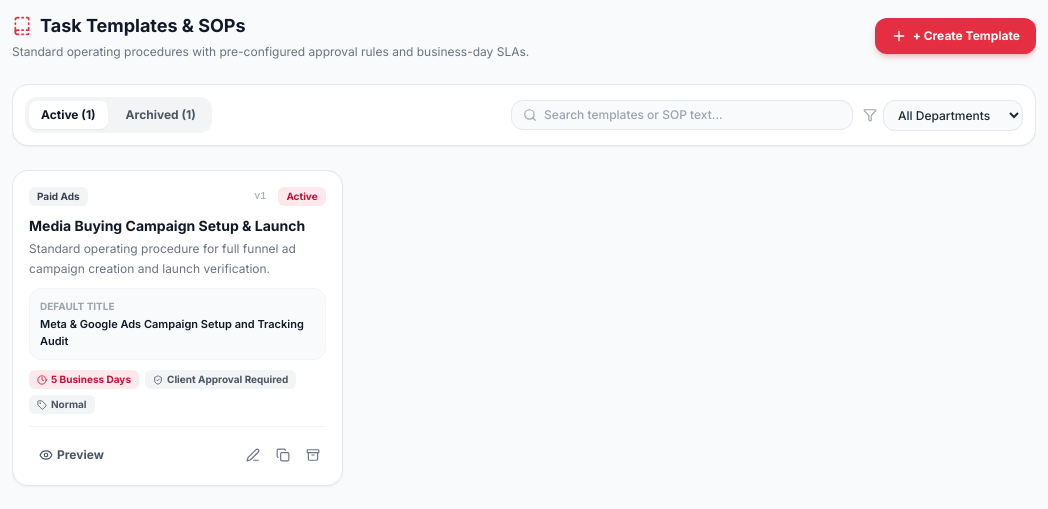
Test: Phase 3C: Task Templates System Comprehensive Suite › 5. Task Templates Library Governance & RBAC › 5.5 Owner can toggle to Archived tab and view archived templates with archive reasons
This screenshot has width=1048, height=509.
Expected: the button "Active (1)" is shown, [29,101,108,129]
Click the button "Archived (1)".
click(161, 115)  # box [114,101,208,129]
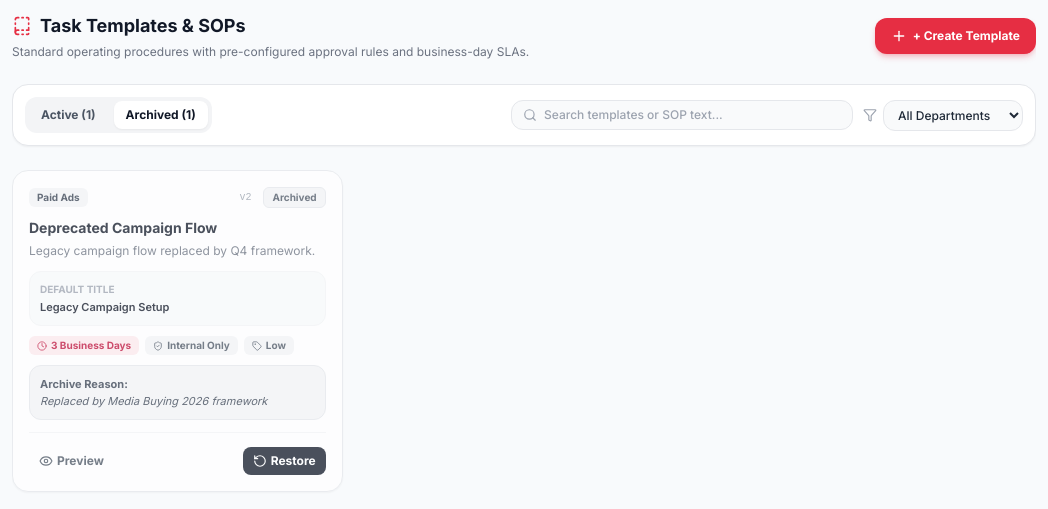
Now the heading "Deprecated Campaign Flow" is shown, box [29,219,217,236]
Now the text "Replaced by Media Buying 2026 framework" is shown, box [40,394,267,408]
Now the button "Restore" is shown, box [243,447,326,475]
